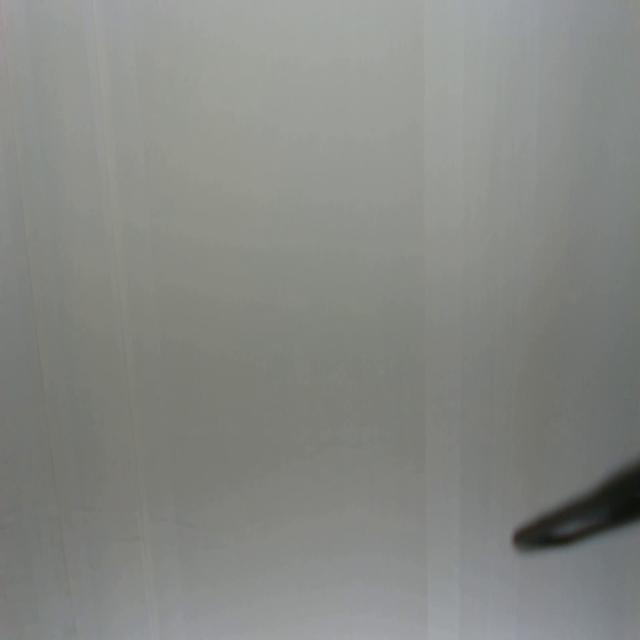crease: (91, 1, 159, 639), (12, 131, 77, 638)
